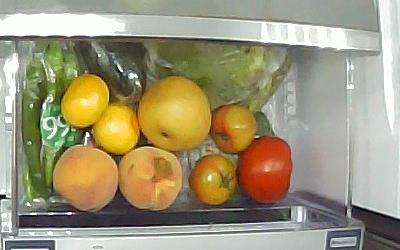peach: (51, 142, 119, 212), (116, 144, 183, 210)
pear: (136, 73, 212, 151)
tangerine: (59, 72, 109, 127), (90, 101, 140, 154)
tomato: (234, 134, 293, 204), (187, 152, 236, 205), (208, 102, 257, 154)
